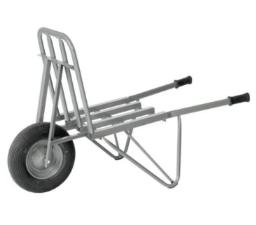BROUETTE: (8, 22, 256, 225)
